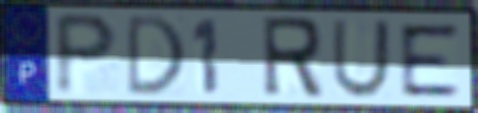1: (190, 16, 223, 97)
D: (124, 12, 188, 99)
E: (396, 21, 464, 99)
P: (53, 10, 121, 98)
R: (259, 14, 327, 101)
U: (329, 18, 394, 101)
